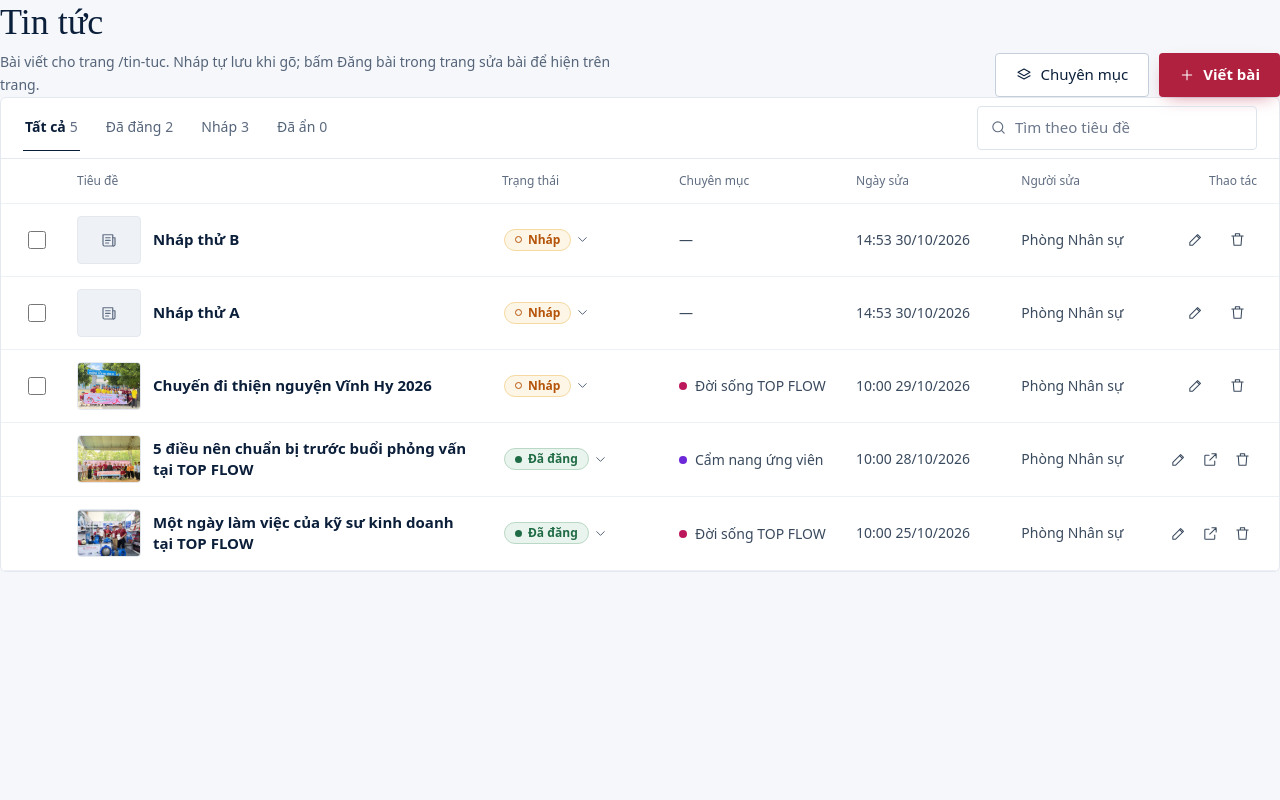
Scenario: HR news list › should delete several drafts at once after asking, and only offer drafts for it
Click the checkbox named "Chọn bài Nháp thử A" at (37, 312), box [28,304,46,322]
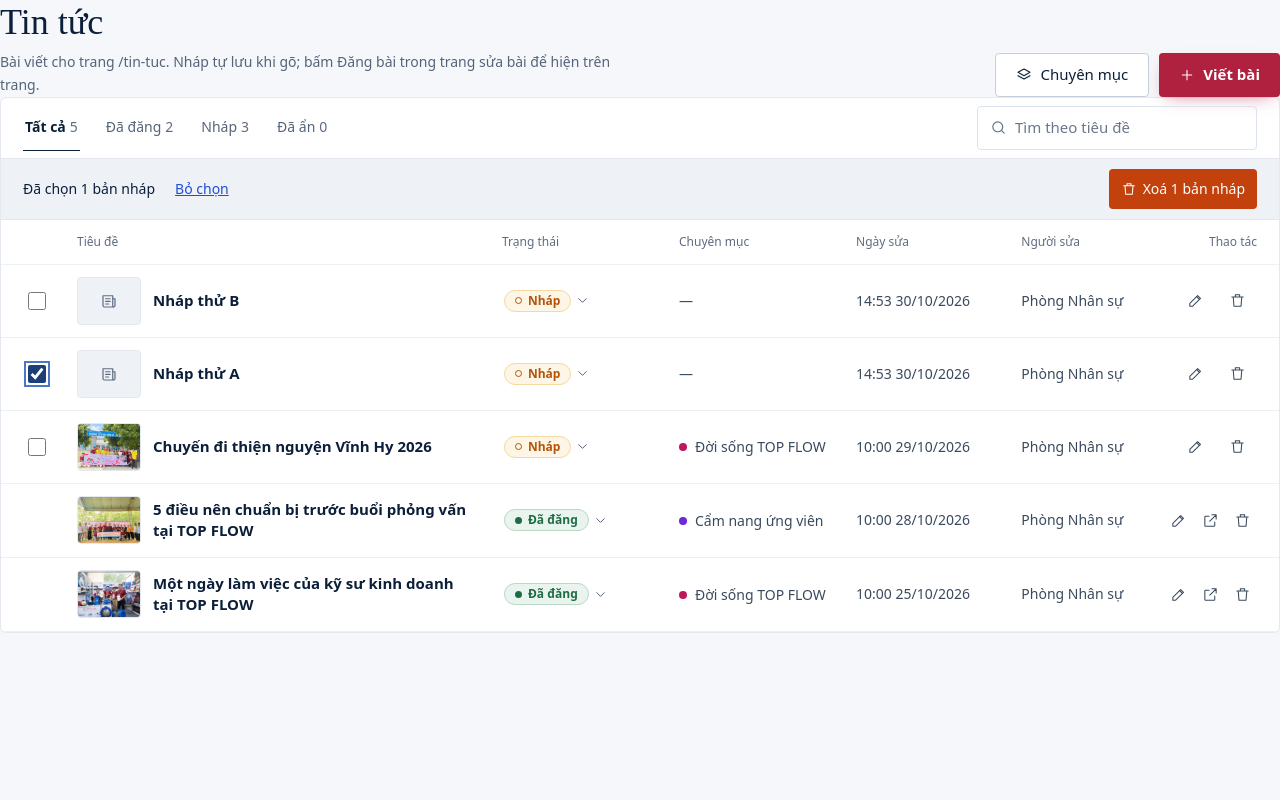
Click the checkbox named "Chọn bài Nháp thử B" at (37, 300), box [28,292,46,310]
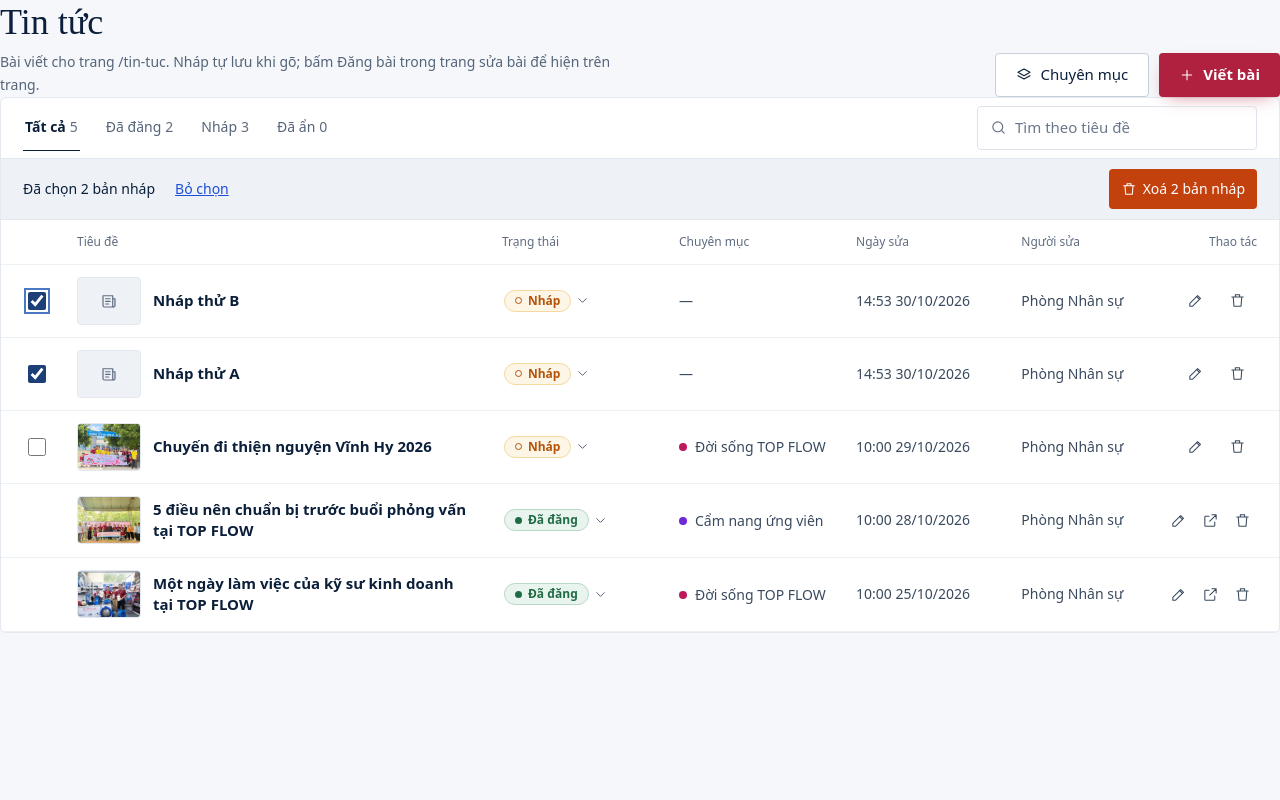
Click the button "Xoá 2 bản nháp" at (1183, 188), box [1109,168,1257,208]
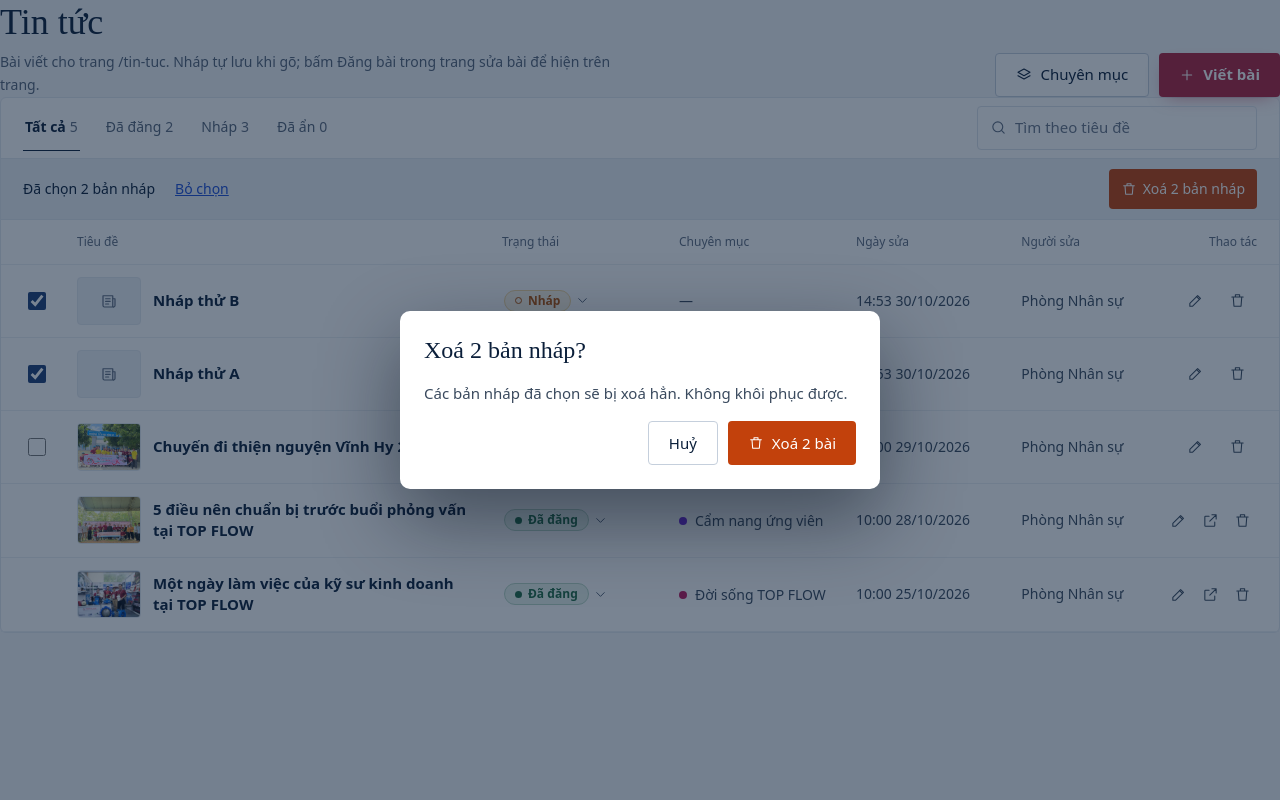
Click the button "Xoá 2 bài" at (792, 443), box [728,421,856,465]
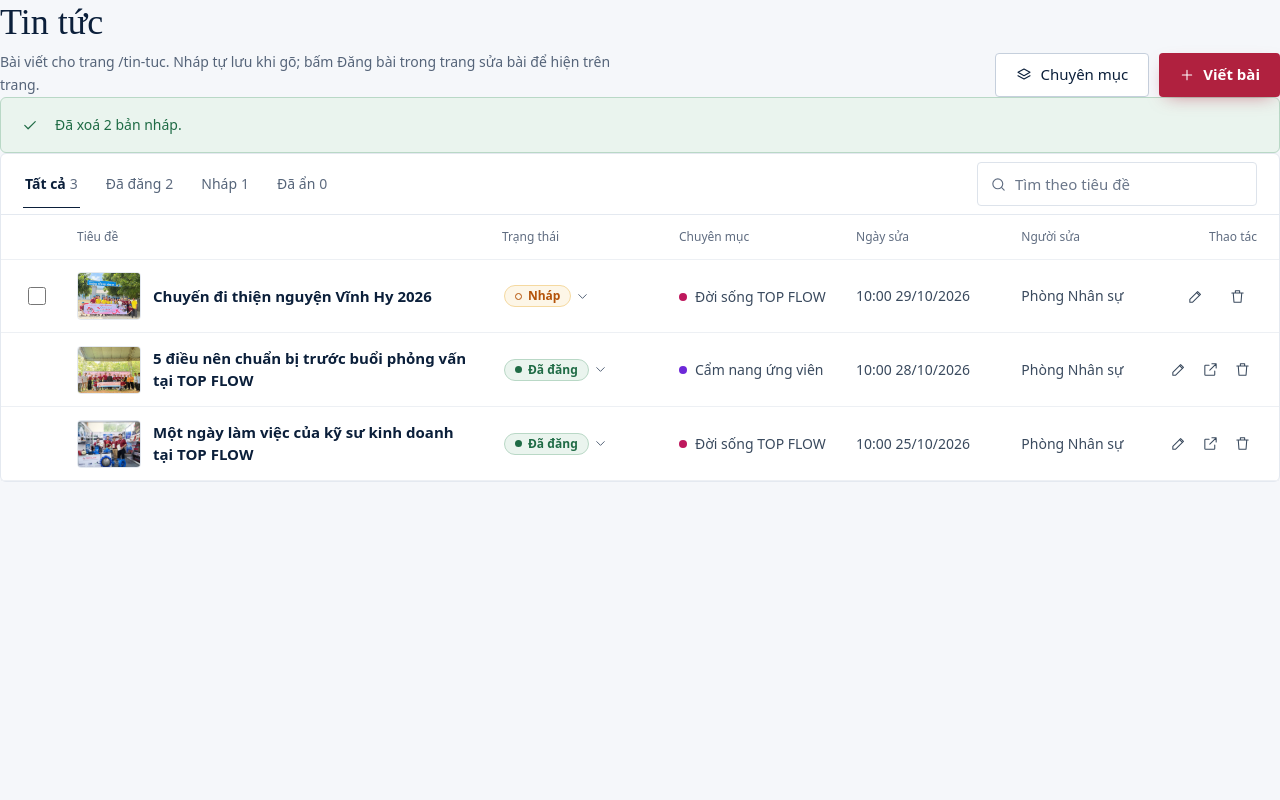
Now the text "Đã xoá 2 bản nháp." is shown, box [55,114,182,134]
